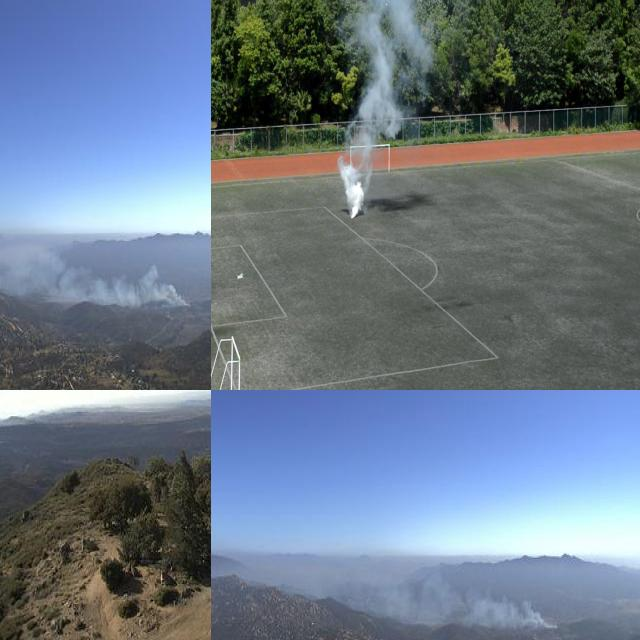smoke: (299, 550, 557, 635), (337, 0, 431, 218), (0, 227, 193, 311)
